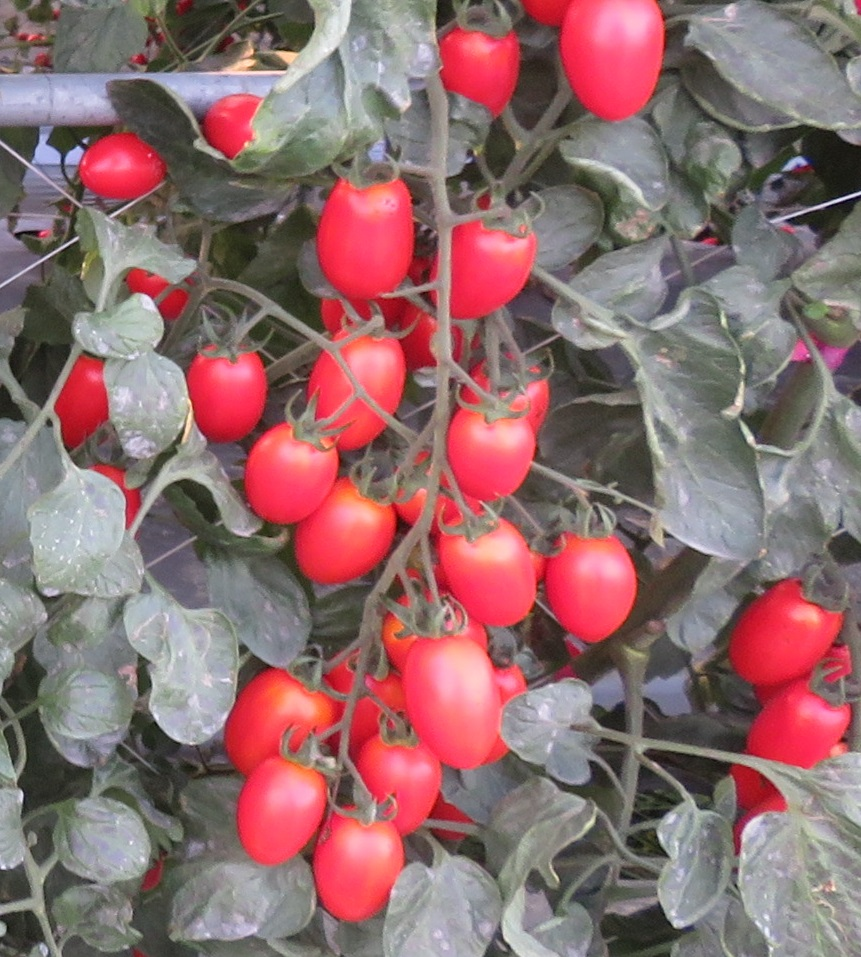red: (555, 1, 678, 126), (309, 159, 415, 298), (399, 633, 502, 772), (300, 324, 411, 447), (220, 668, 348, 768), (287, 477, 398, 591), (542, 517, 644, 641), (727, 578, 845, 685), (438, 511, 540, 630), (432, 218, 544, 323), (314, 808, 411, 926), (241, 421, 338, 525), (745, 679, 853, 772), (237, 752, 319, 868), (445, 398, 534, 502), (354, 733, 442, 833), (188, 343, 270, 445), (393, 449, 484, 537), (435, 29, 521, 118), (66, 130, 170, 199), (54, 355, 110, 453), (204, 92, 270, 160)
